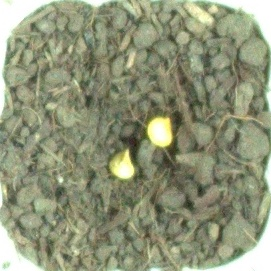chilli seed: (104, 146, 140, 181), (144, 113, 178, 150)
